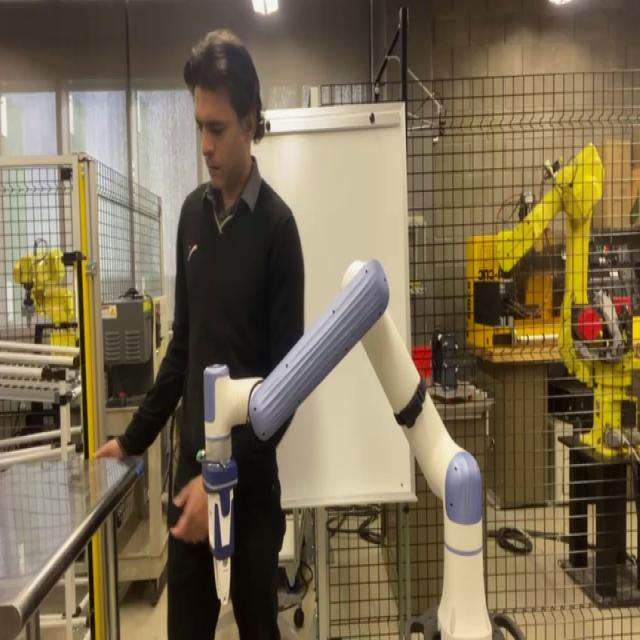robot: (197, 255, 524, 637)
